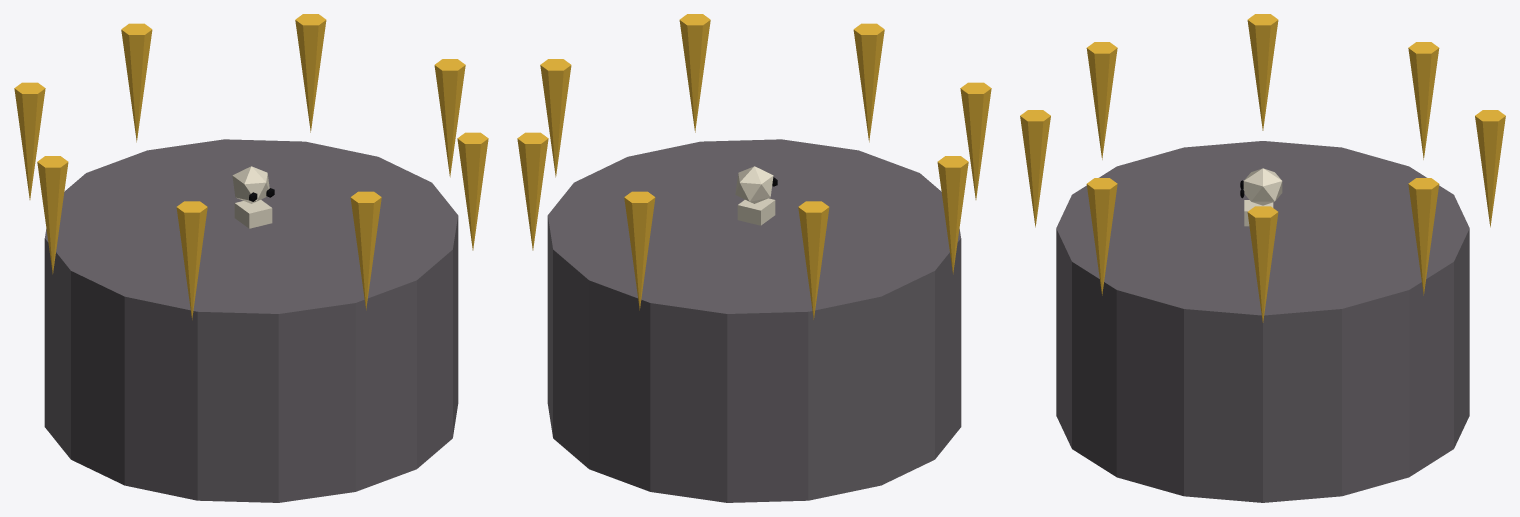
Rendered from Bld_OR_Cistern_01.glb.
The picture shows the model from 3 angles, left to right: view 1: azimuth 30°, elevation 25°; view 2: azimuth 150°, elevation 25°; view 3: azimuth 270°, elevation 25°; orthographic projection.
Visible parts, largest first — view 1: Bld_OR_Cistern_01; view 2: Bld_OR_Cistern_01; view 3: Bld_OR_Cistern_01.
Part boxes in pixels (bbox=[...]): Bld_OR_Cistern_01: bbox=[14, 14, 488, 502]; Bld_OR_Cistern_01: bbox=[517, 14, 991, 502]; Bld_OR_Cistern_01: bbox=[1020, 14, 1505, 502].
Size of the model in its own units: 9.32 by 6.4 by 9.4.
